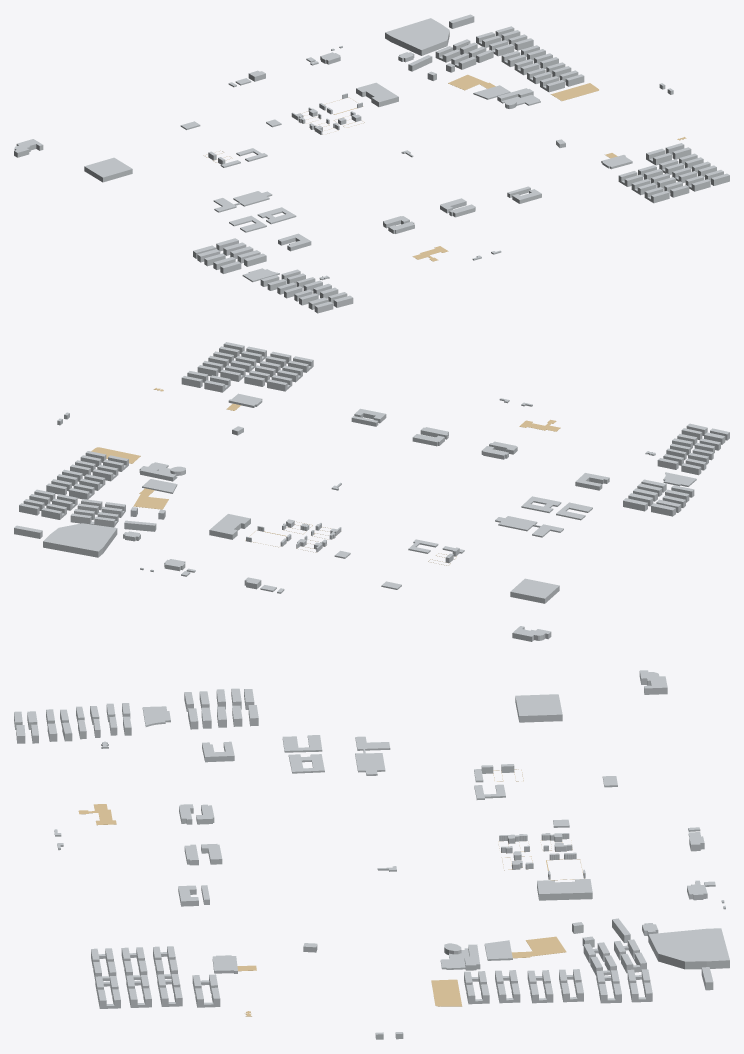
Rendered from SEU_OSM_MASSING_v02.glb.
The picture shows the model from 3 angles, top to bottom: view 1: azimuth 30°, elevation 25°; view 2: azimuth 150°, elevation 25°; view 3: azimuth 270°, elevation 25°; orthographic projection. The views are drawn at different scales.
Visible parts, largest first — view 1: SEU_B_OSMWAY_1056927550, SEU_B_OSMWAY_1488713409, SEU_B_OSMWAY_1056927514, SEU_B_OSMWAY_300030325; view 2: SEU_B_OSMWAY_1056927550, SEU_B_OSMWAY_1488713409, SEU_B_OSMWAY_1056927514, SEU_B_OSMWAY_300030325; view 3: SEU_B_OSMWAY_1056927550, SEU_B_OSMWAY_1488713409, SEU_B_OSMWAY_1056927514, SEU_B_OSMWAY_300030325, SEU_B_OSMWAY_851764288.
Boxes of the visible parts, box(x1,y1,x2,y2) form: SEU_B_OSMWAY_1056927550: box(385, 18, 449, 55); SEU_B_OSMWAY_1488713409: box(84, 157, 132, 182); SEU_B_OSMWAY_1056927514: box(356, 82, 398, 106); SEU_B_OSMWAY_300030325: box(213, 191, 272, 212); SEU_B_OSMWAY_1056927550: box(43, 523, 117, 557); SEU_B_OSMWAY_1488713409: box(510, 578, 559, 603); SEU_B_OSMWAY_1056927514: box(209, 514, 250, 539); SEU_B_OSMWAY_300030325: box(495, 516, 563, 537); SEU_B_OSMWAY_1056927550: box(648, 928, 729, 969); SEU_B_OSMWAY_1488713409: box(515, 694, 562, 722); SEU_B_OSMWAY_1056927514: box(537, 879, 592, 900); SEU_B_OSMWAY_300030325: box(355, 736, 390, 775); SEU_B_OSMWAY_851764288: box(431, 979, 462, 1006).
Size of the model in its own units: 1782 by 19.2 by 1486.
